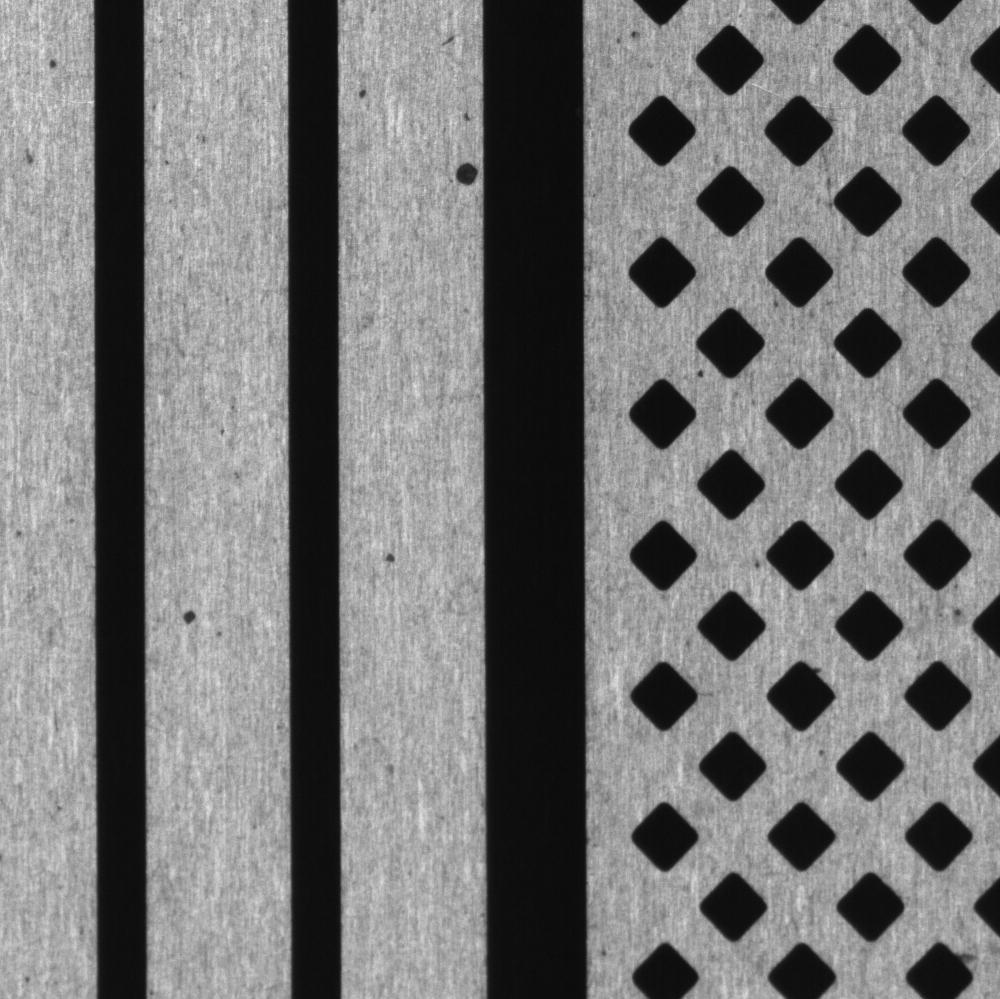Etching: (423, 15, 470, 70), (444, 154, 483, 198), (34, 44, 75, 83), (374, 539, 407, 577), (346, 69, 375, 107), (173, 597, 201, 629)
